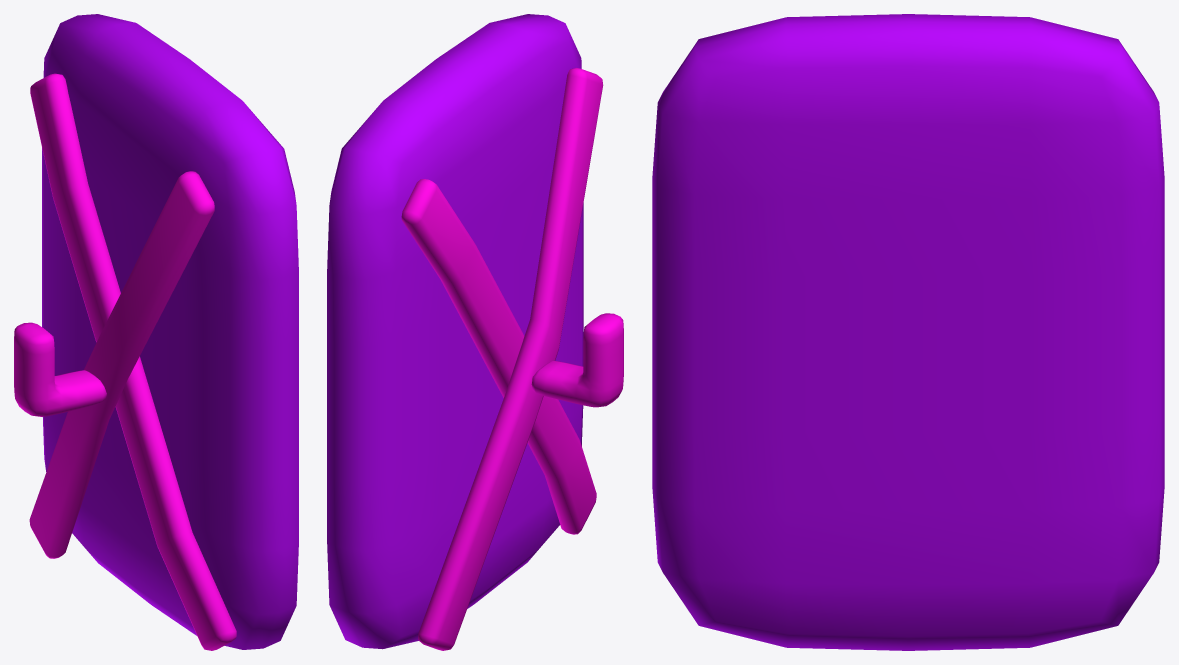
The model's file is porte1.fbx.
The picture shows the model from 3 angles, left to right: view 1: azimuth 30°, elevation 25°; view 2: azimuth 150°, elevation 25°; view 3: azimuth 270°, elevation 25°; orthographic projection. The views are drawn at different scales.
Visible parts, largest first — view 1: porte1; view 2: porte1; view 3: porte1.
Boxes of the visible parts, x1=… form: porte1: x1=14, y1=14, x2=298, y2=650; porte1: x1=327, y1=14, x2=623, y2=650; porte1: x1=652, y1=14, x2=1164, y2=650.
Size of the model in its own units: 149 by 200 by 75.86.
